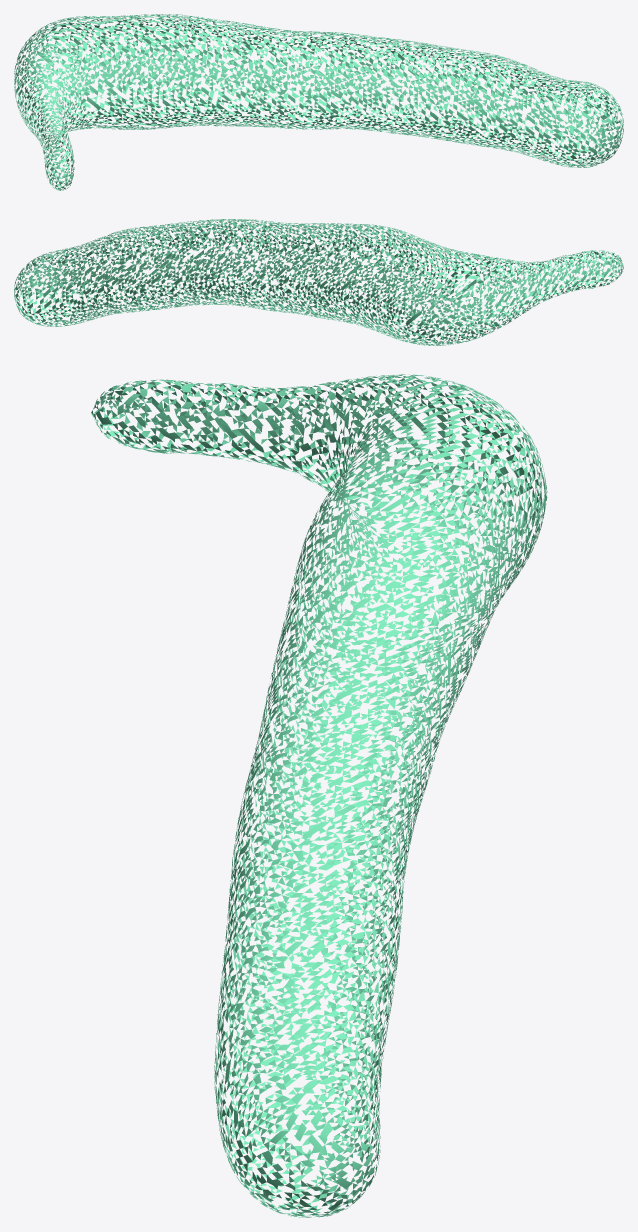
File: healthy.glb
3 renders of one model, top to bottom at view 1: azimuth 30°, elevation 25°; view 2: azimuth 150°, elevation 25°; view 3: azimuth 270°, elevation 25°, orthographic. The views are drawn at different scales.
Bounding box in the file's own units: 112 × 38.59 × 39.87.
